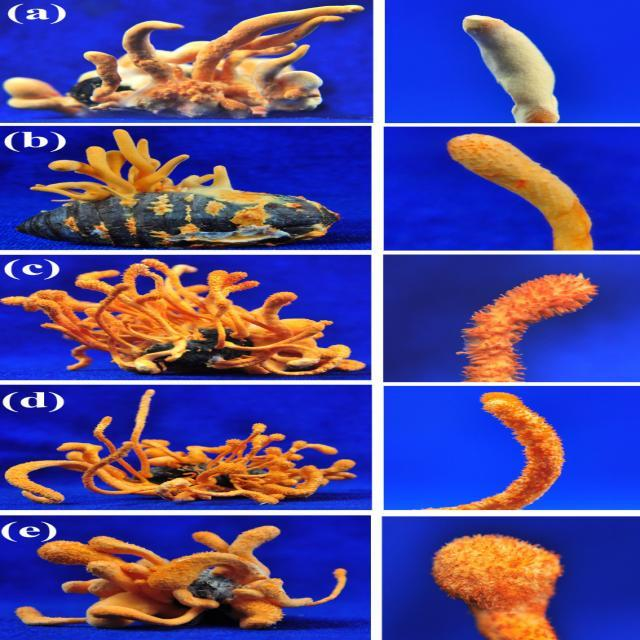Cordyceps militaris: (8, 262, 373, 379), (27, 394, 360, 509), (14, 8, 360, 116), (33, 133, 340, 249), (24, 526, 356, 633), (454, 132, 591, 249), (462, 272, 598, 379), (433, 531, 565, 640), (458, 11, 565, 122), (466, 393, 565, 505)
